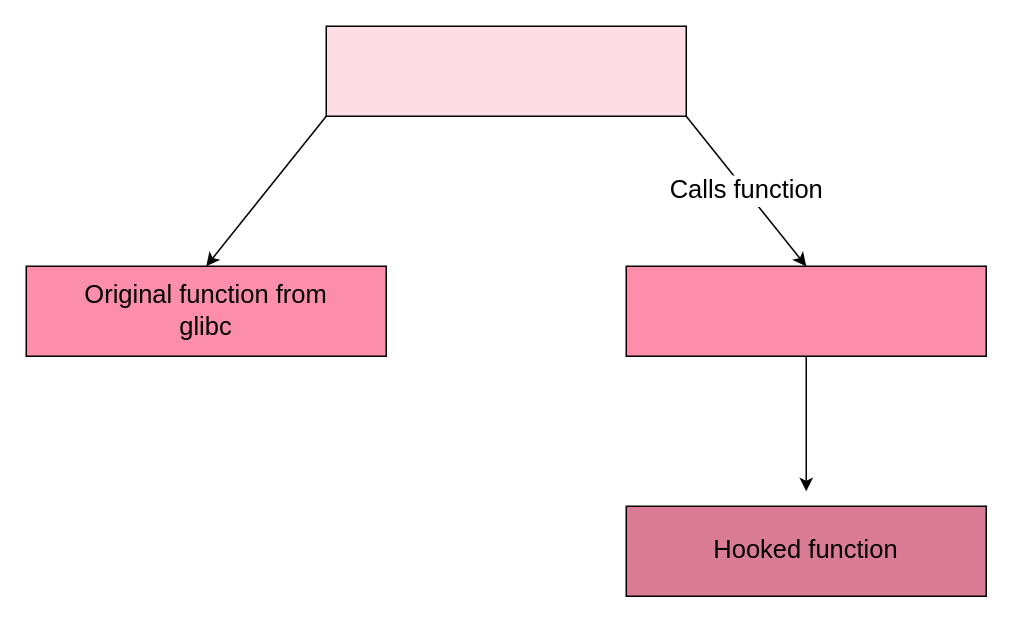
Image size: 1013x623. Some labels were removed from this diagram. Here are the shapes that lost their labels. From the top down, the centre of each, then its label:
the point at 505,70: Appplication
the point at 805,310: LD_PRELOAD
